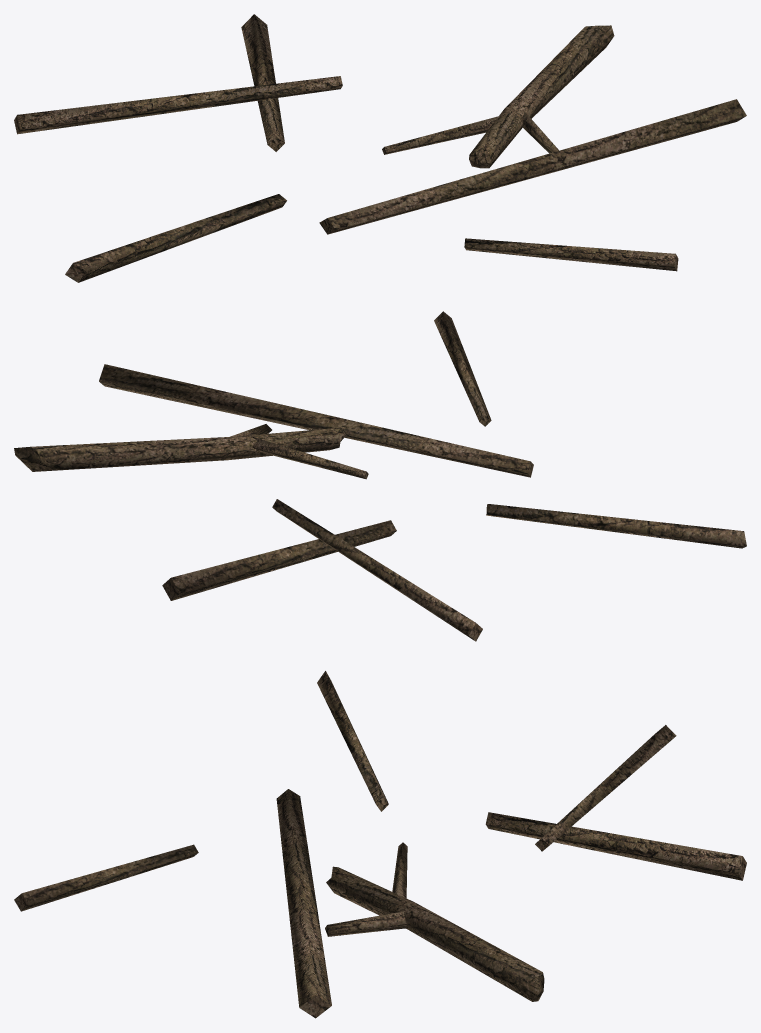
The model's file is Vegetation_Deadtree05.glb.
3 views of the same model, one above another, from view 1: azimuth 30°, elevation 25°; view 2: azimuth 150°, elevation 25°; view 3: azimuth 270°, elevation 25° (orthographic). The views are drawn at different scales.
Parts seen in each view (by area): view 1: xiutz_deadtree05; view 2: xiutz_deadtree05; view 3: xiutz_deadtree05.
Part boxes in pixels (box(x1,y1,x2,y2)): xiutz_deadtree05: box(14, 14, 746, 282); xiutz_deadtree05: box(14, 311, 746, 641); xiutz_deadtree05: box(14, 671, 746, 1018).
Bounding box in the file's own units: 10.64 × 0.6264 × 9.84.
1 material, 1 textured.
